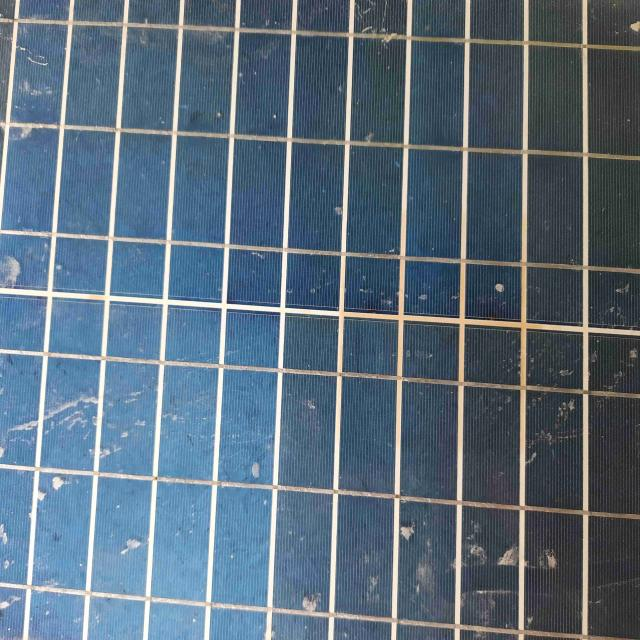dust-solar-panel: (0, 0, 640, 638)
